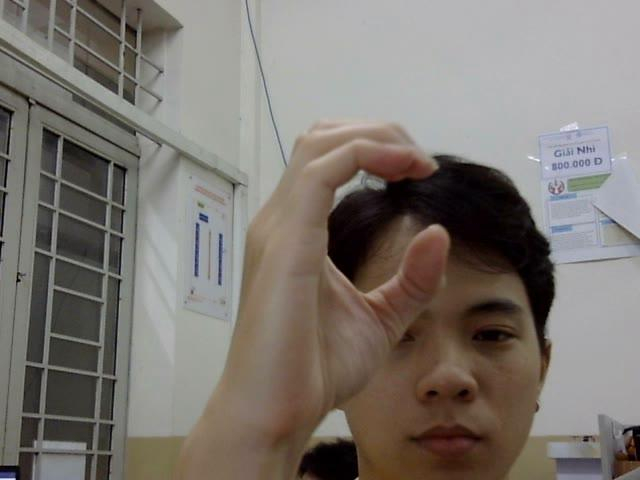C: (204, 115, 448, 430)
